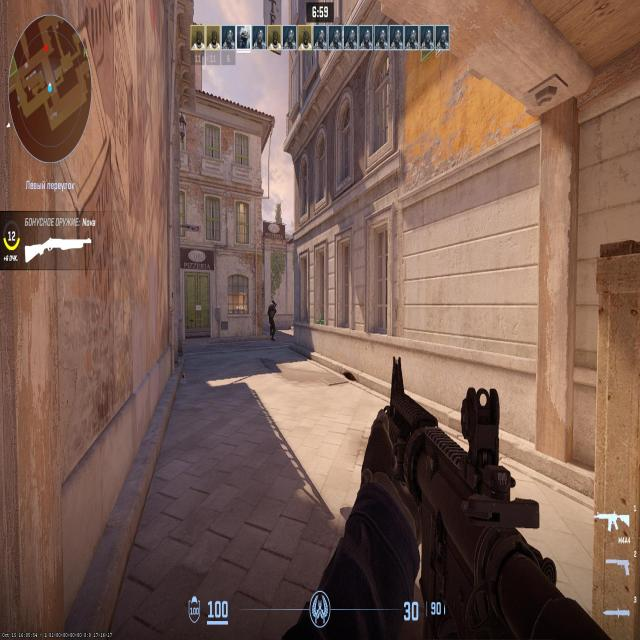CT: (268, 298, 277, 335)
CT_heat: (271, 302, 276, 308)
